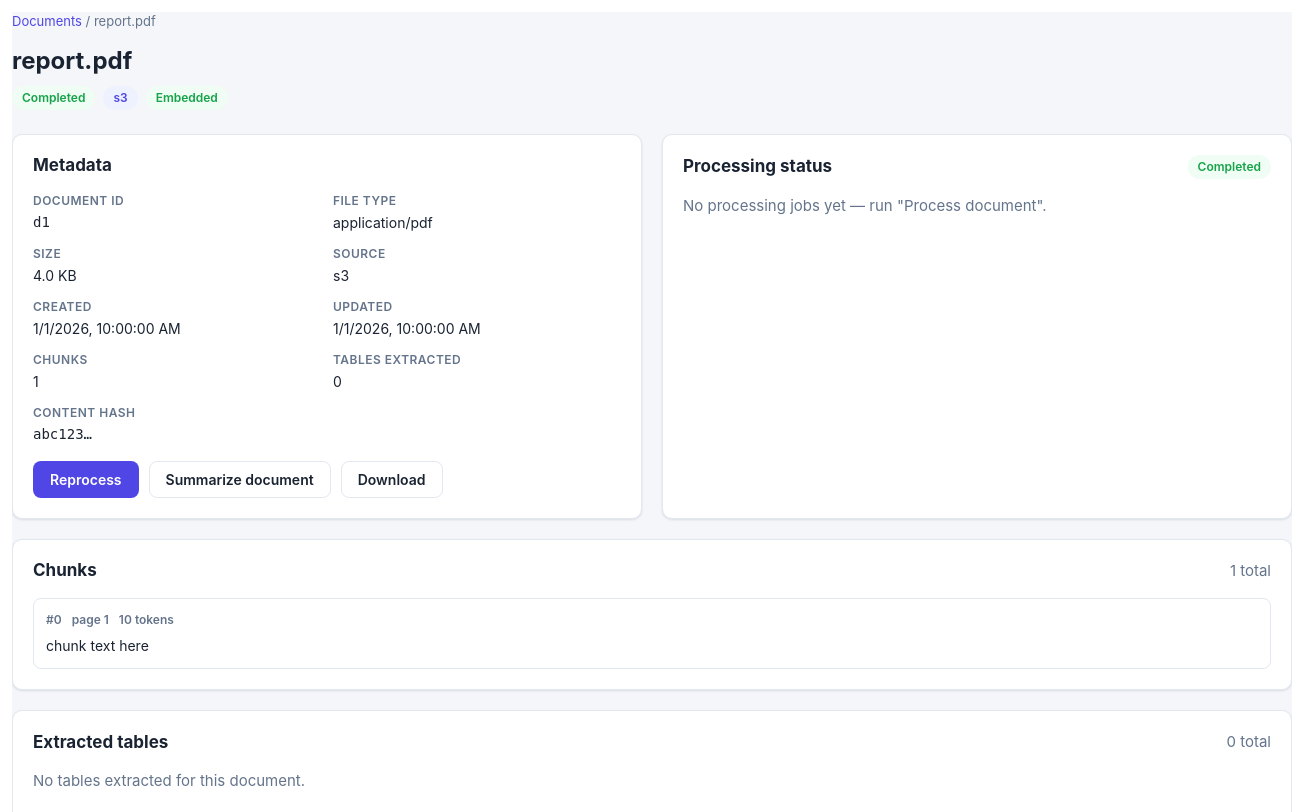
DocumentDetailPage summary › shows a sanitized error when summarization fails
Click the button "Summarize document" at point(240, 479), box [149,461,331,498]
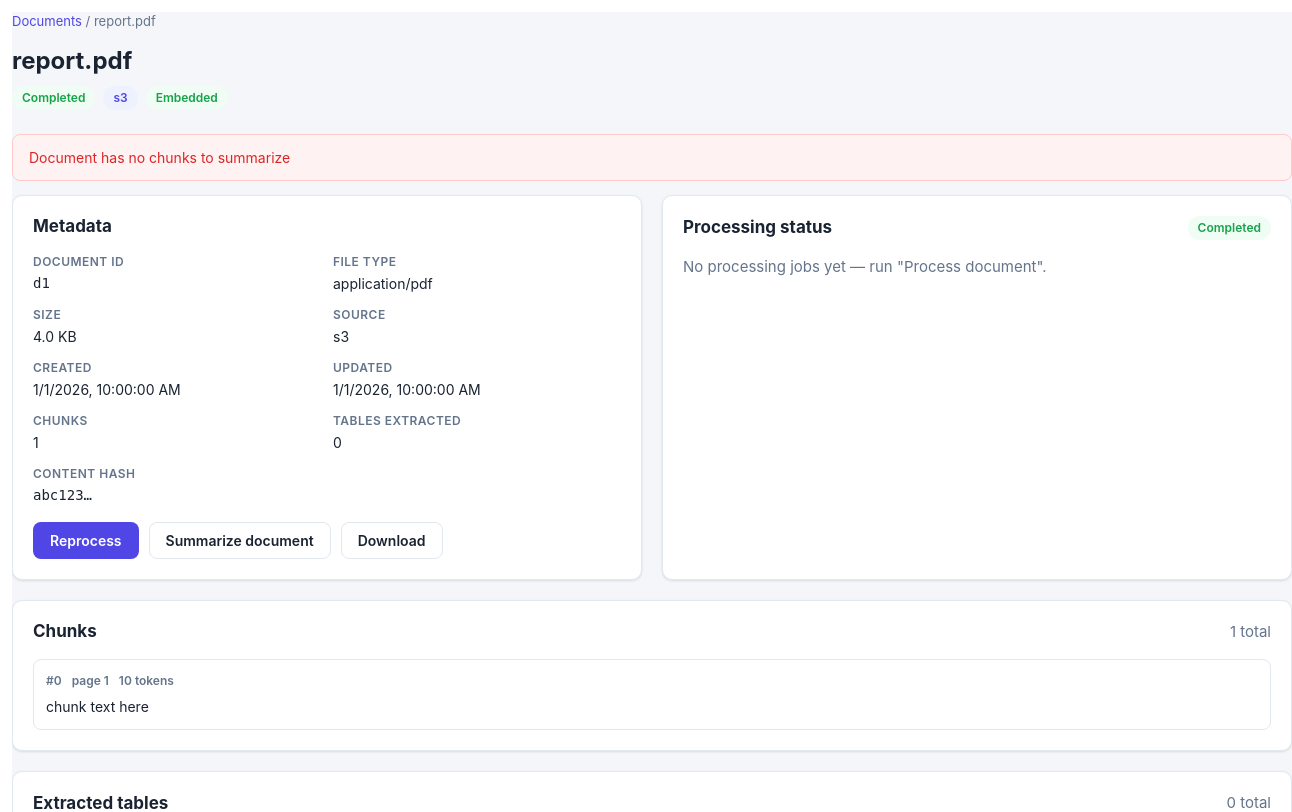
Expected: the text "Document has no chunks to summarize" is shown, [12,134,1291,180]
